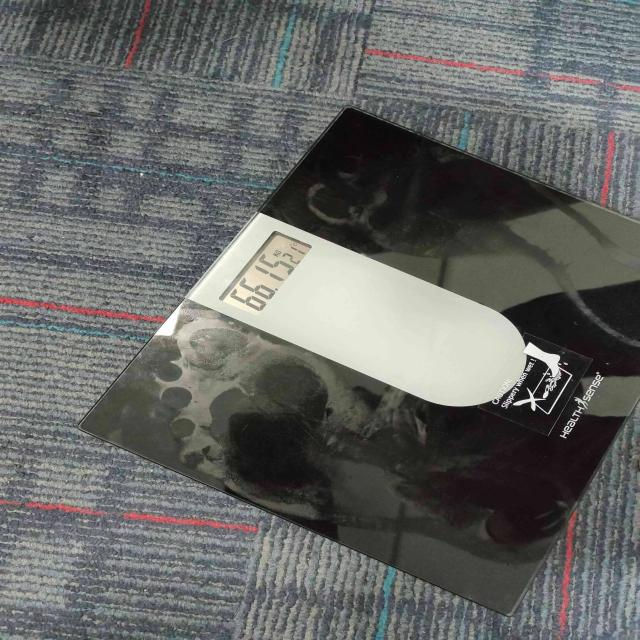ws: (108, 111, 640, 612)
